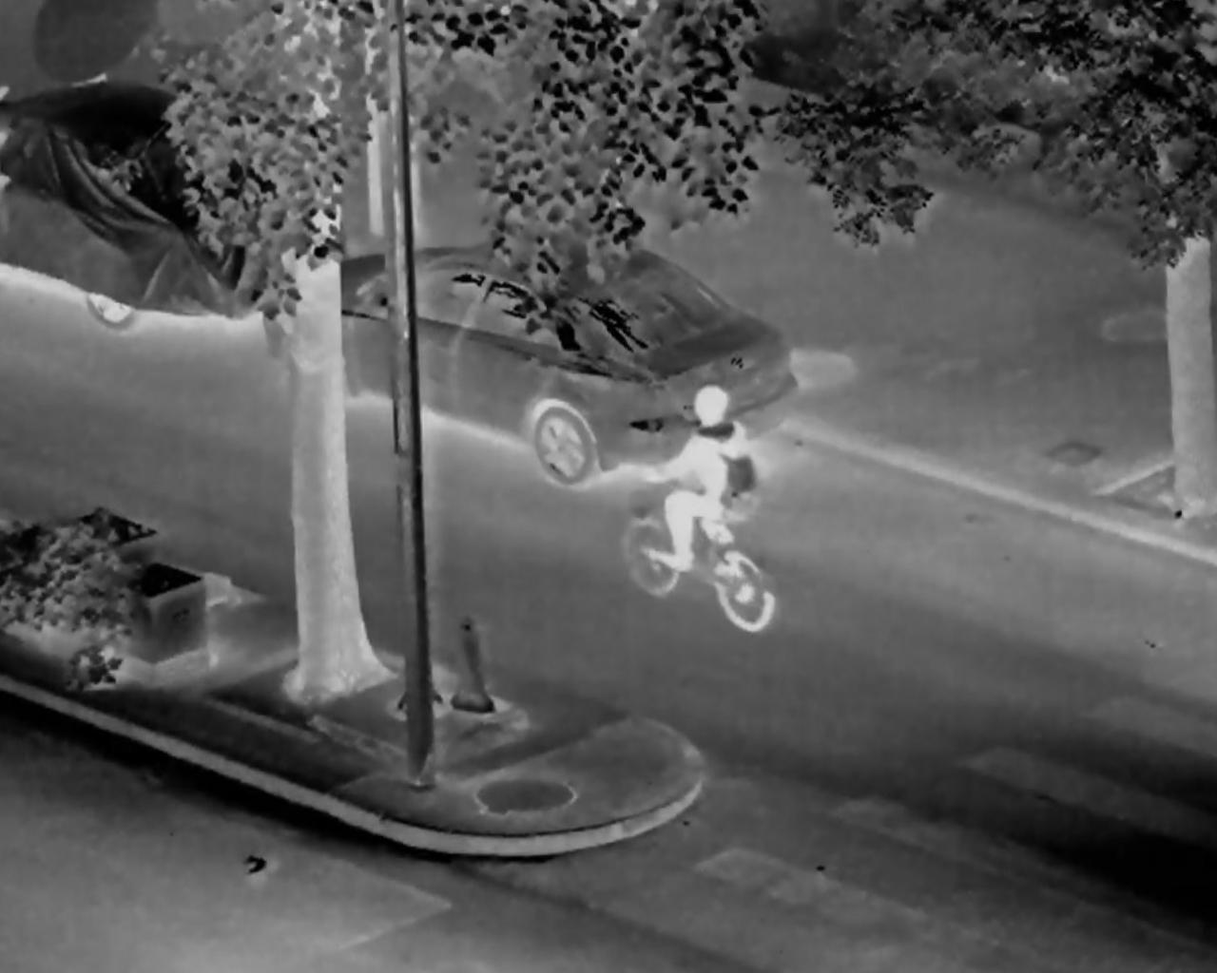person: (646, 386, 754, 573)
